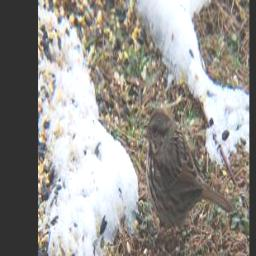Sparrow: (141, 104, 233, 250)
